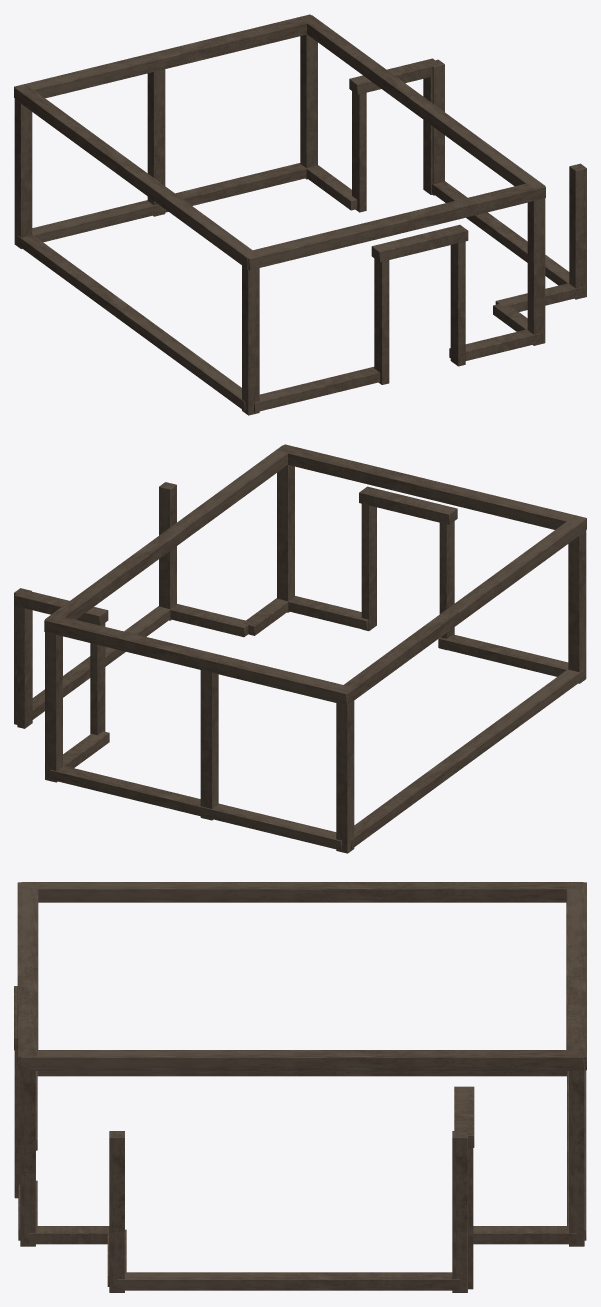
Rendered from BW_ElderCottage01_Timber.fbx.
3 renders of one model, top to bottom at view 1: azimuth 30°, elevation 25°; view 2: azimuth 150°, elevation 25°; view 3: azimuth 270°, elevation 25°, orthographic. The views are drawn at different scales.
Parts seen in each view (by area): view 1: BW_ElderCottage01_Timber; view 2: BW_ElderCottage01_Timber; view 3: BW_ElderCottage01_Timber.
Boxes of the visible parts, <box> form: BW_ElderCottage01_Timber: <box>14,14,586,415</box>; BW_ElderCottage01_Timber: <box>14,444,586,853</box>; BW_ElderCottage01_Timber: <box>14,882,586,1292</box>.
Bounding box in the file's own units: 7.66 × 3.05 × 8.36.
